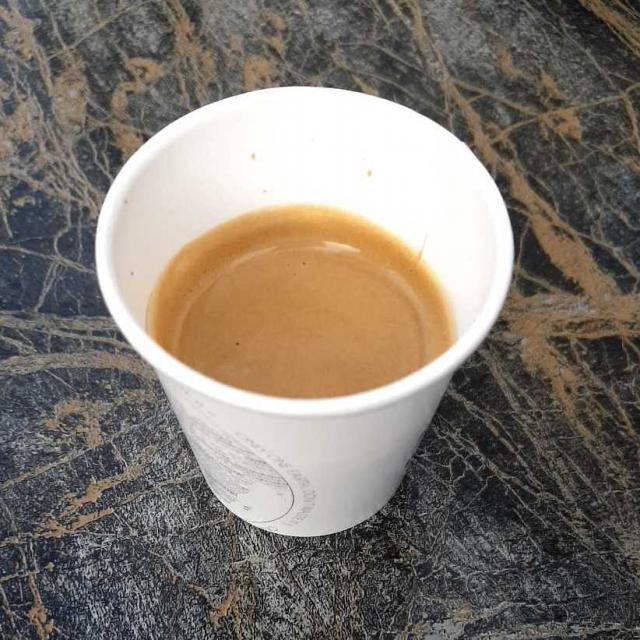coffee: (162, 222, 445, 393)
espresso: (162, 222, 445, 393)
